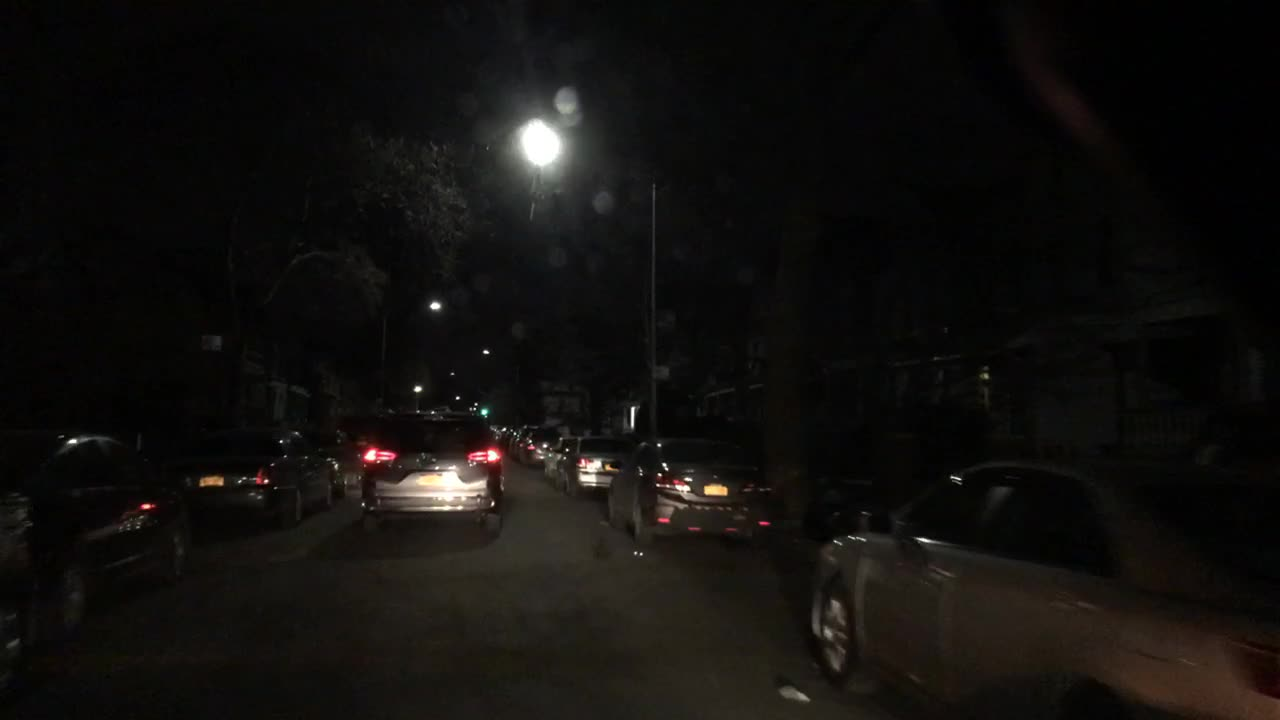car: (806, 455, 1279, 719), (0, 423, 184, 640), (356, 407, 506, 535), (606, 435, 773, 548), (165, 425, 334, 530), (1, 491, 34, 697), (557, 435, 634, 494), (312, 423, 368, 482), (540, 430, 582, 476), (519, 422, 560, 467), (509, 422, 536, 461), (504, 428, 518, 449), (496, 422, 509, 444)
traffic light: (479, 401, 487, 418)
